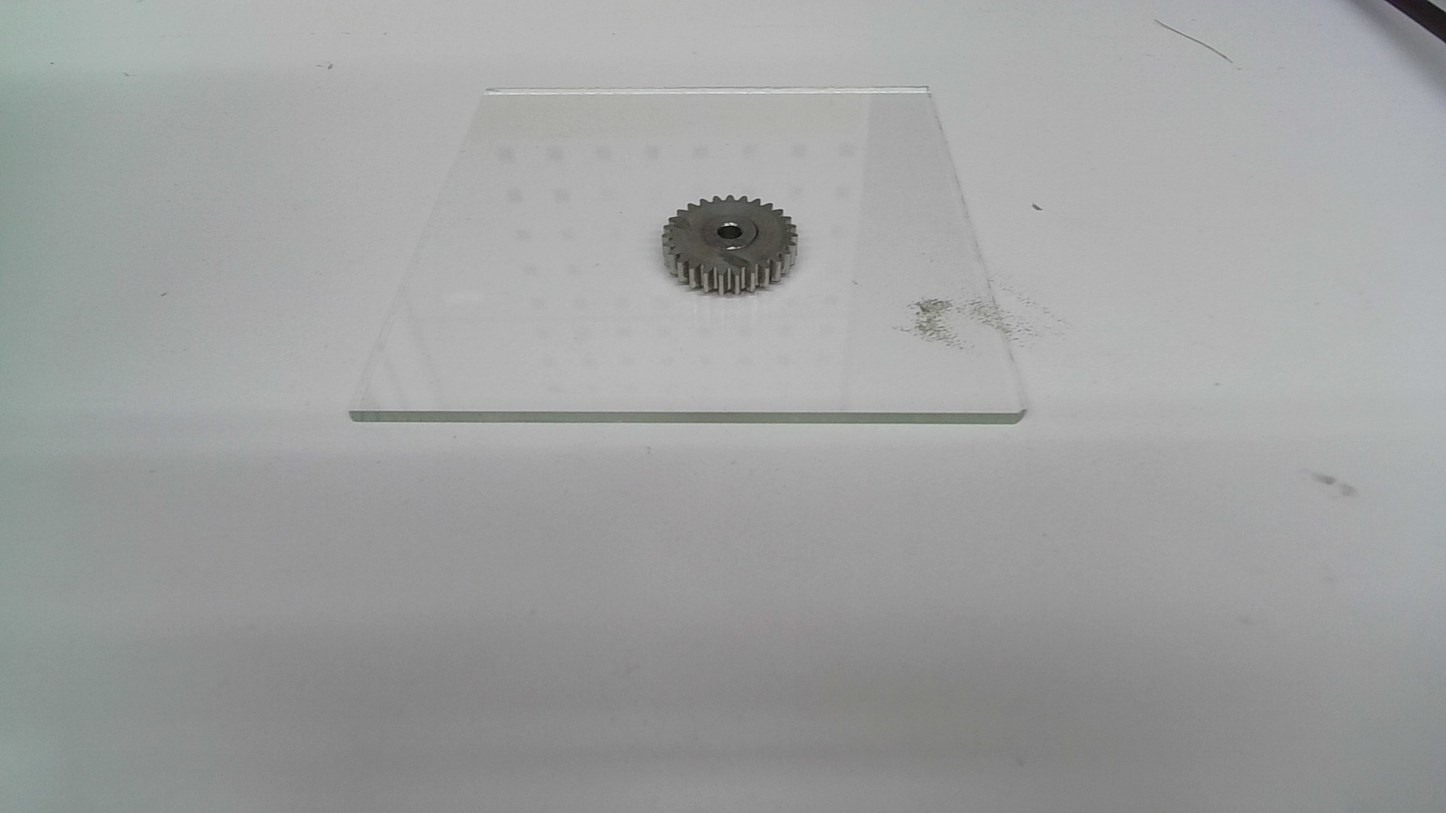gear: (660, 193, 801, 297)
